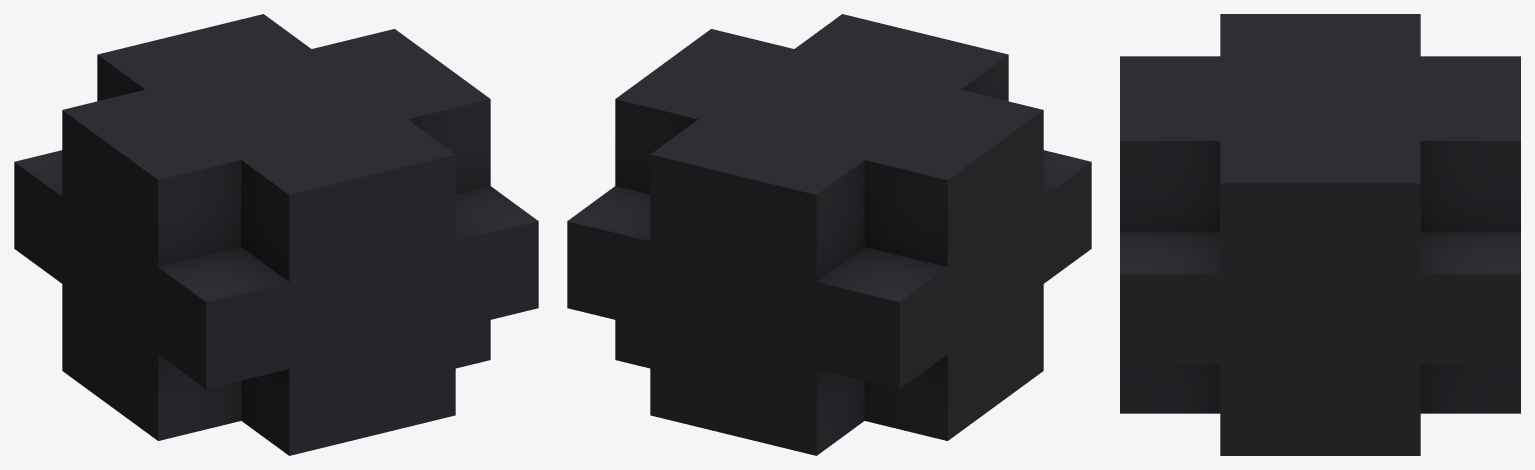
The model's file is p_shell.glb.
3 views of the same model, side by side, from view 1: azimuth 30°, elevation 25°; view 2: azimuth 150°, elevation 25°; view 3: azimuth 270°, elevation 25° (orthographic). The views are drawn at different scales.
Parts seen in each view (by area): view 1: p_shell_body; view 2: p_shell_body; view 3: p_shell_body.
Part boxes in pixels (<box>): p_shell_body: <box>14,14,538,455</box>; p_shell_body: <box>567,14,1091,455</box>; p_shell_body: <box>1120,14,1520,455</box>.
Size of the model in its own units: 0.25 by 0.1875 by 0.25.
1 material, 1 textured.
